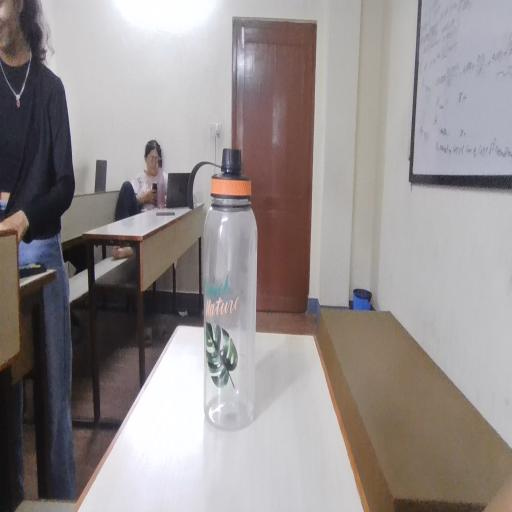Bottle: (196, 131, 276, 430)
